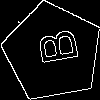B: (28, 27, 79, 68)
